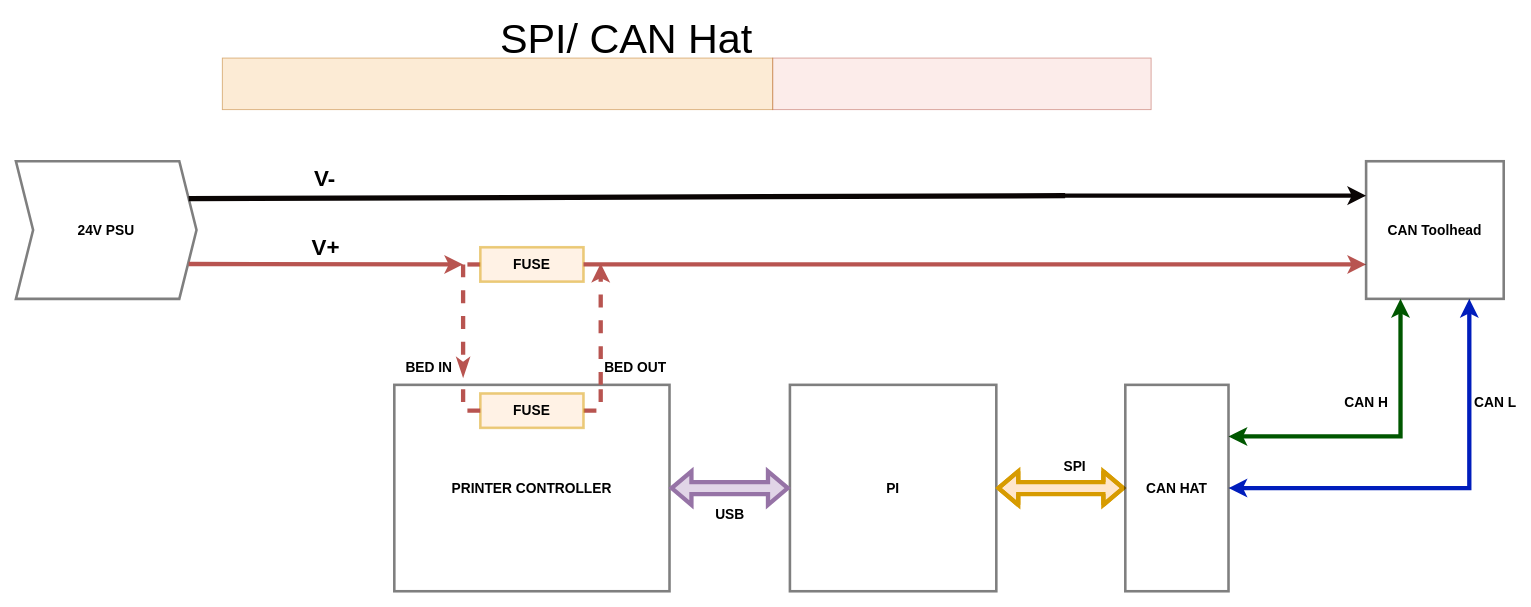
Some shapes in this 1531 by 607 pixel diagram are drawn without their labels. Here are the shapes that lost their labels. From the top down, the centre of each, then its label:
At (497,83): "It is recommended to fuse your 24v line for extra safety".
At (961,83): "- - - - Optional Routing via Bed Fuse".
